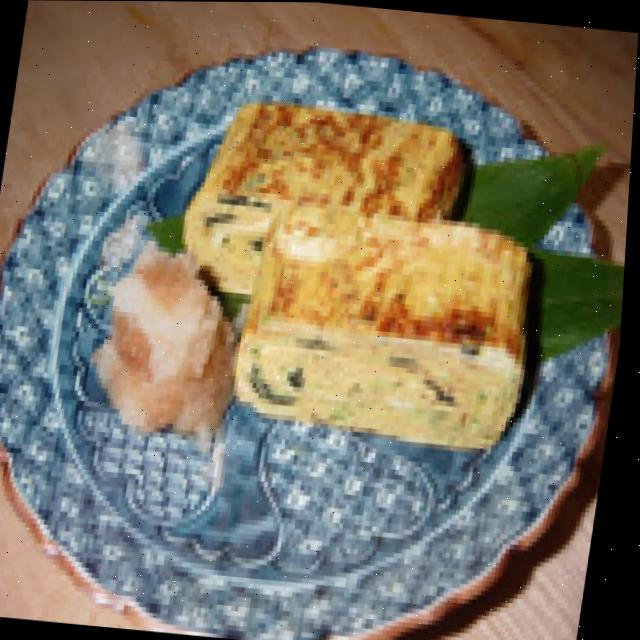鸡蛋料理: (157, 78, 571, 455)
